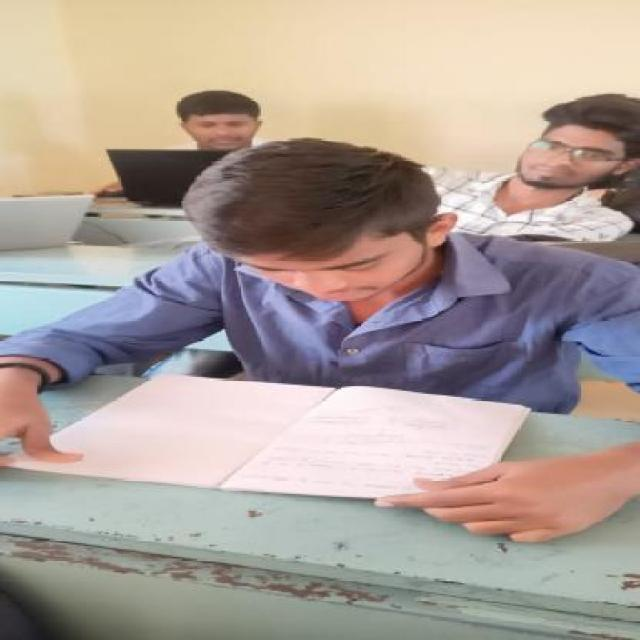good: (0, 136, 640, 560), (427, 87, 640, 270)
